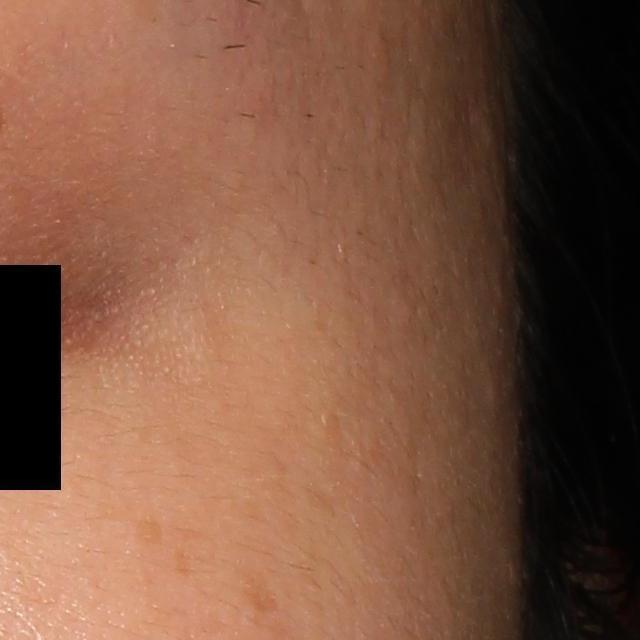melasma: (235, 556, 290, 617), (132, 521, 165, 554), (171, 547, 193, 584)
